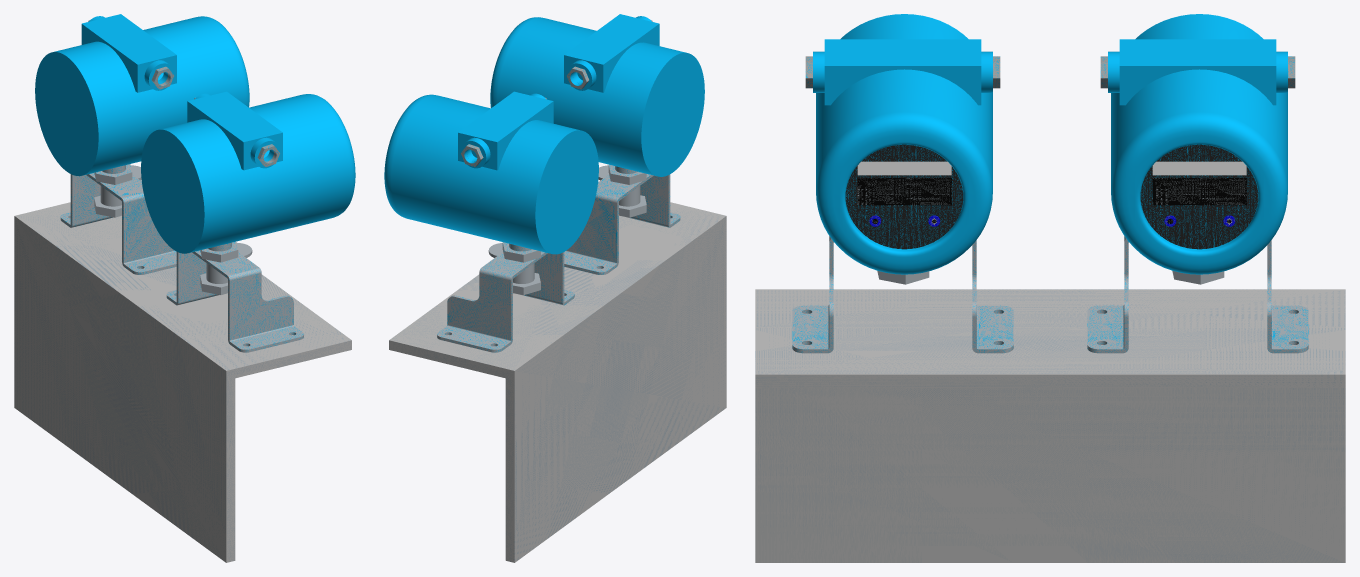
Rendered from Transmitter_edited[1].dae.
3 views of the same model, side by side, from view 1: azimuth 30°, elevation 25°; view 2: azimuth 150°, elevation 25°; view 3: azimuth 270°, elevation 25° (orthographic). The views are drawn at different scales.
Visible parts, largest first — view 1: group_7, group_2 (×6), group_4 (×2); view 2: group_7, group_2 (×6), group_4 (×2); view 3: group_7, group_2 (×10), group_4 (×2), group_5 (×2), image_0 (×2).
Part boxes in pixels (left/top/right/bottom): group_7: left=14, top=202, right=351, bottom=562; group_2 (×6): left=35, top=14, right=355, bottom=253; group_4 (×2): left=60, top=173, right=303, bottom=352; group_7: left=389, top=202, right=726, bottom=562; group_2 (×6): left=384, top=14, right=704, bottom=254; group_4 (×2): left=437, top=174, right=680, bottom=352; group_7: left=755, top=289, right=1345, bottom=562; group_2 (×10): left=816, top=14, right=1287, bottom=274; group_4 (×2): left=792, top=236, right=1308, bottom=353; group_5 (×2): left=857, top=178, right=1246, bottom=205; image_0 (×2): left=857, top=161, right=1246, bottom=175.
Size of the model in its own units: 6.65 by 15.75 by 16.08.
